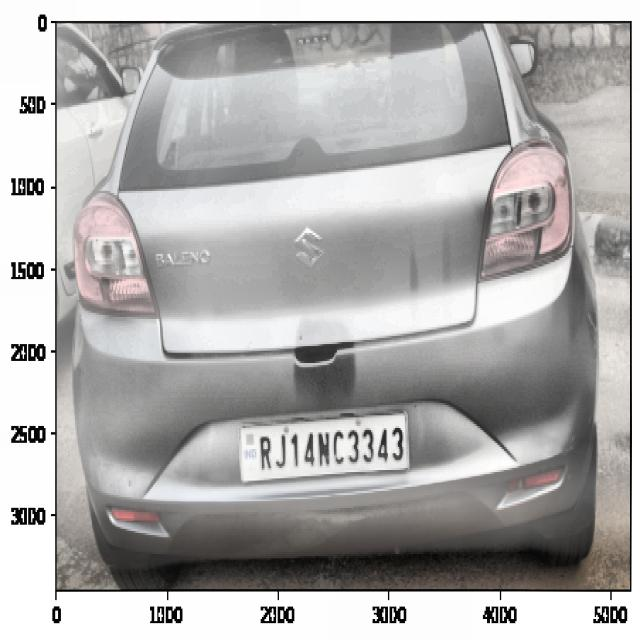license_plate: (248, 419, 410, 475)
